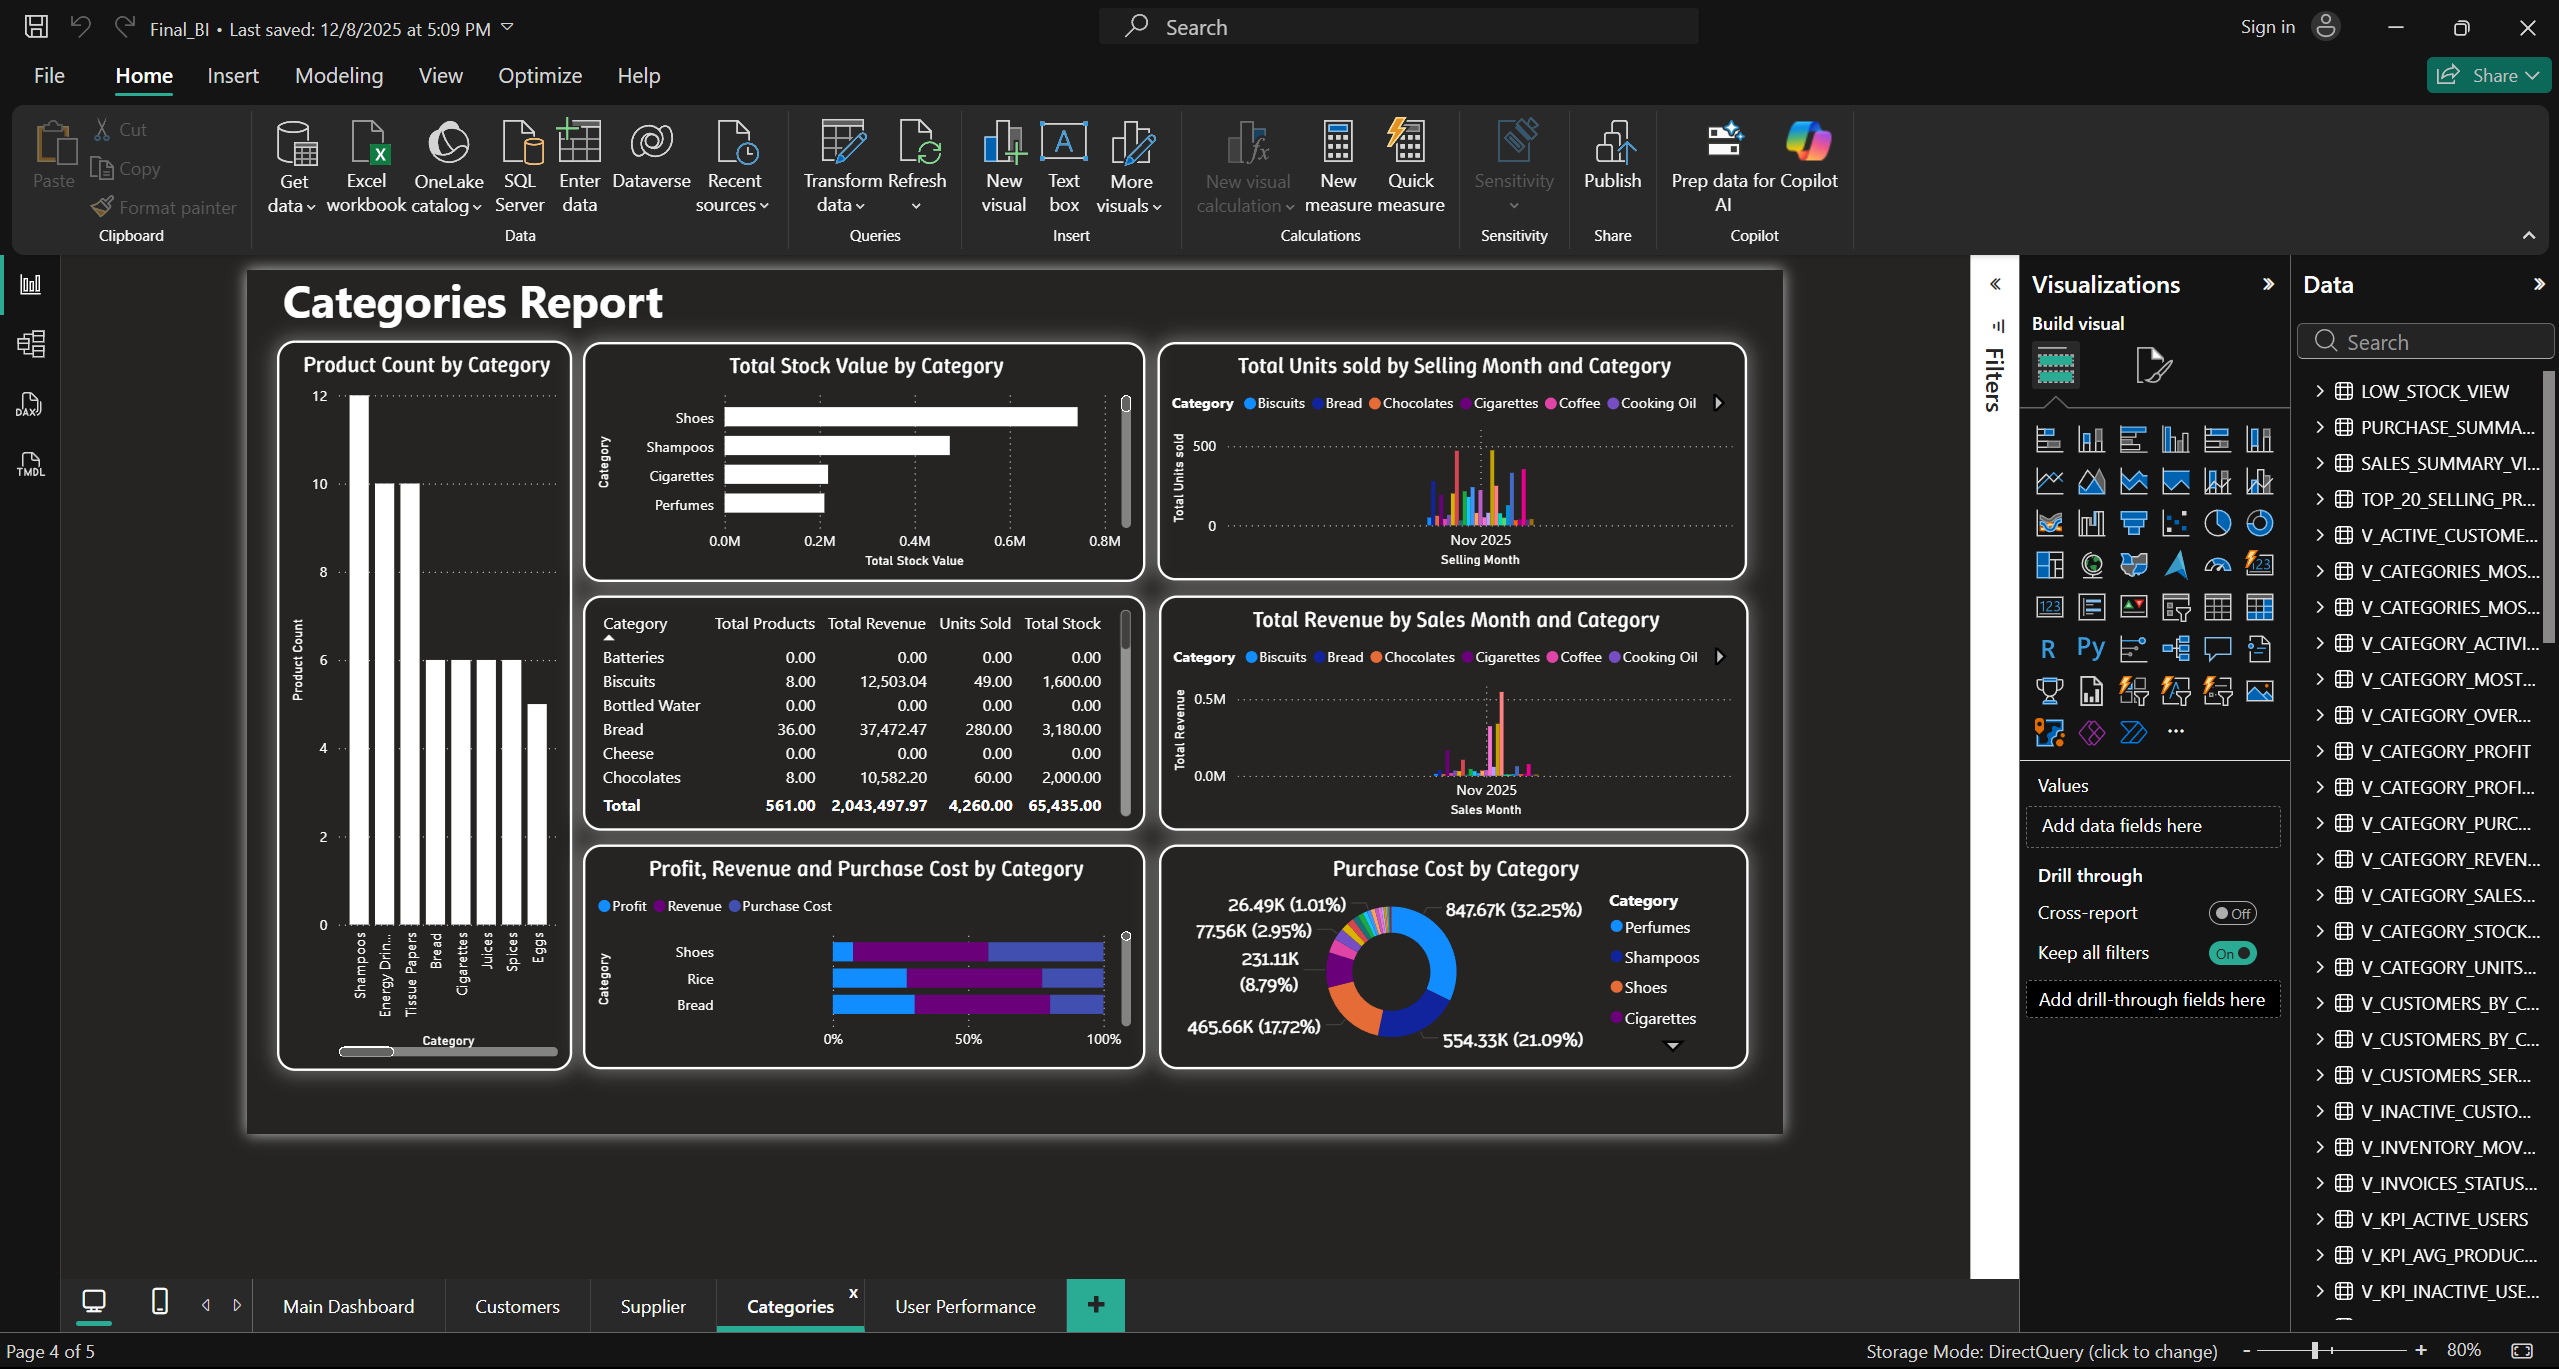

The page's visual inventory and layout, read from the dashboard file:
{"tool":"powerbi","page":{"name":"Categories","canvas":[1280,720],"ordinal":3},"visuals":[{"type":"textbox","box":[25,0,396.2,58.8],"z":0},{"type":"columnChart","fields":{"Category":["V_CATEGORIES_MOST_PRODUCTS.CATEGORY_NAME"],"Y":["Sum(V_CATEGORIES_MOST_PRODUCTS.PRODUCTS_COUNT)"]},"box":[25,58.8,246.2,608.8],"z":2000},{"type":"pivotTable","fields":{"Rows":["V_CATEGORY_ACTIVITY.CATEGORY_NAME"],"Values":["Sum(V_CATEGORY_ACTIVITY.TOTAL_PRODUCTS)","Sum(V_CATEGORY_ACTIVITY.TOTAL_REVENUE)","Sum(V_CATEGORY_ACTIVITY.UNITS_SOLD)","Sum(V_CATEGORY_ACTIVITY.TOTAL_STOCK)"]},"box":[280,271.2,468.8,196.2],"z":3000},{"type":"clusteredColumnChart","fields":{"Category":["V_CATEGORY_UNITS_TREND.SALES_MONTH"],"Y":["Sum(V_CATEGORY_UNITS_TREND.TOTAL_UNITS_SOLD)"],"Series":["V_CATEGORY_UNITS_TREND.CATEGORY_NAME"]},"box":[758.8,60,491.2,198.8],"z":4000},{"type":"clusteredColumnChart","fields":{"Category":["V_CATEGORY_SALES_TREND.SALES_MONTH"],"Y":["Sum(V_CATEGORY_SALES_TREND.REVENUE)"],"Series":["V_CATEGORY_SALES_TREND.CATEGORY_NAME"]},"box":[760,271.2,491.2,196.2],"z":5000},{"type":"clusteredBarChart","fields":{"Category":["V_CATEGORY_STOCK_VALUE.CATEGORY_NAME"],"Y":["Sum(V_CATEGORY_STOCK_VALUE.TOTAL_STOCK_VALUE)"]},"box":[280,60,468.8,200],"z":6000},{"type":"hundredPercentStackedBarChart","fields":{"Y":["Sum(V_CATEGORY_PROFIT.PROFIT)","Sum(V_CATEGORY_PROFIT.TOTAL_REVENUE)","Sum(V_CATEGORY_PROFIT.TOTAL_PURCHASE_COST)"],"Category":["V_CATEGORY_PROFIT.CATEGORY_NAME"]},"box":[280,478.8,468.8,187.5],"z":7000},{"type":"donutChart","fields":{"Y":["Sum(V_CATEGORY_PURCHASE_COST.TOTAL_PURCHASE_COST)"],"Category":["V_CATEGORY_PURCHASE_COST.CATEGORY_NAME"]},"box":[760,478.8,491.2,187.5],"z":8000}]}

Visuals, with their boxes on the page's 1280x720 design canvas (x1, y1, x2, y2). These are canvas units, not pixel positions in the 2559x1369 screenshot, which may show the page scaled, cropped or inside an application window:
textbox: crop(25, 0, 421, 59)
columnChart - V_CATEGORIES_MOST_PRODUCTS.CATEGORY_NAME x Sum(V_CATEGORIES_MOST_PRODUCTS.PRODUCTS_COUNT): crop(25, 59, 271, 668)
pivotTable - V_CATEGORY_ACTIVITY.CATEGORY_NAME x Sum(V_CATEGORY_ACTIVITY.TOTAL_PRODUCTS): crop(280, 271, 749, 467)
clusteredColumnChart - V_CATEGORY_UNITS_TREND.SALES_MONTH x Sum(V_CATEGORY_UNITS_TREND.TOTAL_UNITS_SOLD): crop(759, 60, 1250, 259)
clusteredColumnChart - V_CATEGORY_SALES_TREND.SALES_MONTH x Sum(V_CATEGORY_SALES_TREND.REVENUE): crop(760, 271, 1251, 467)
clusteredBarChart - V_CATEGORY_STOCK_VALUE.CATEGORY_NAME x Sum(V_CATEGORY_STOCK_VALUE.TOTAL_STOCK_VALUE): crop(280, 60, 749, 260)
hundredPercentStackedBarChart - Sum(V_CATEGORY_PROFIT.PROFIT) x Sum(V_CATEGORY_PROFIT.TOTAL_REVENUE): crop(280, 479, 749, 666)
donutChart - Sum(V_CATEGORY_PURCHASE_COST.TOTAL_PURCHASE_COST) x V_CATEGORY_PURCHASE_COST.CATEGORY_NAME: crop(760, 479, 1251, 666)
